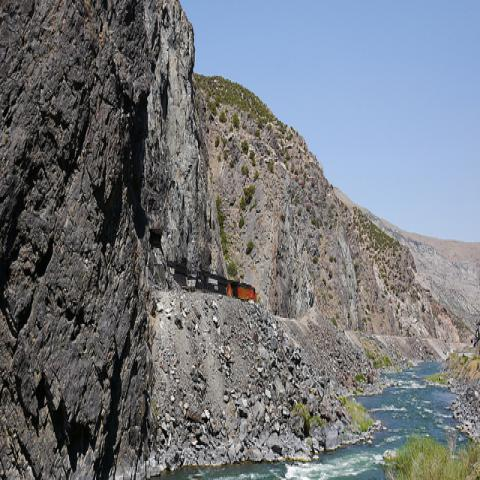truck: (238, 283, 257, 302)
